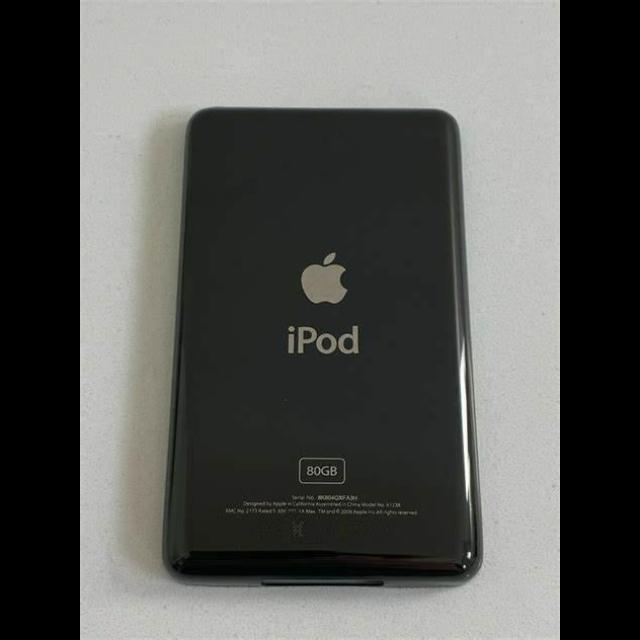Music-Player: (153, 83, 487, 601)
